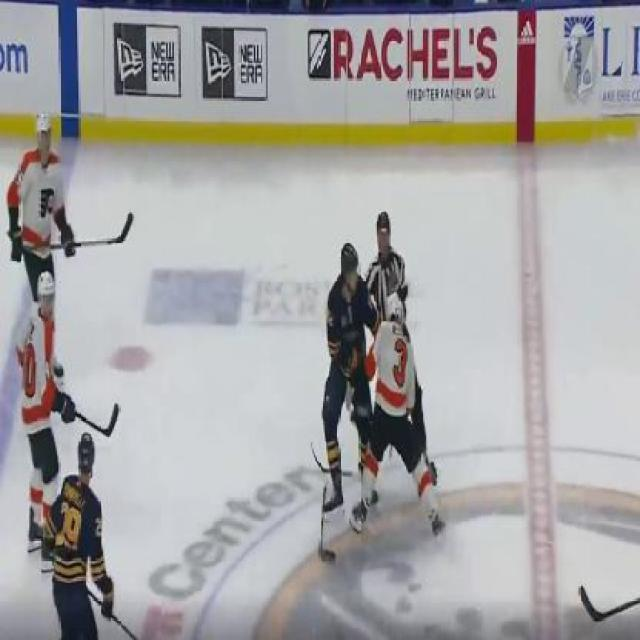fight: (318, 204, 436, 524)
